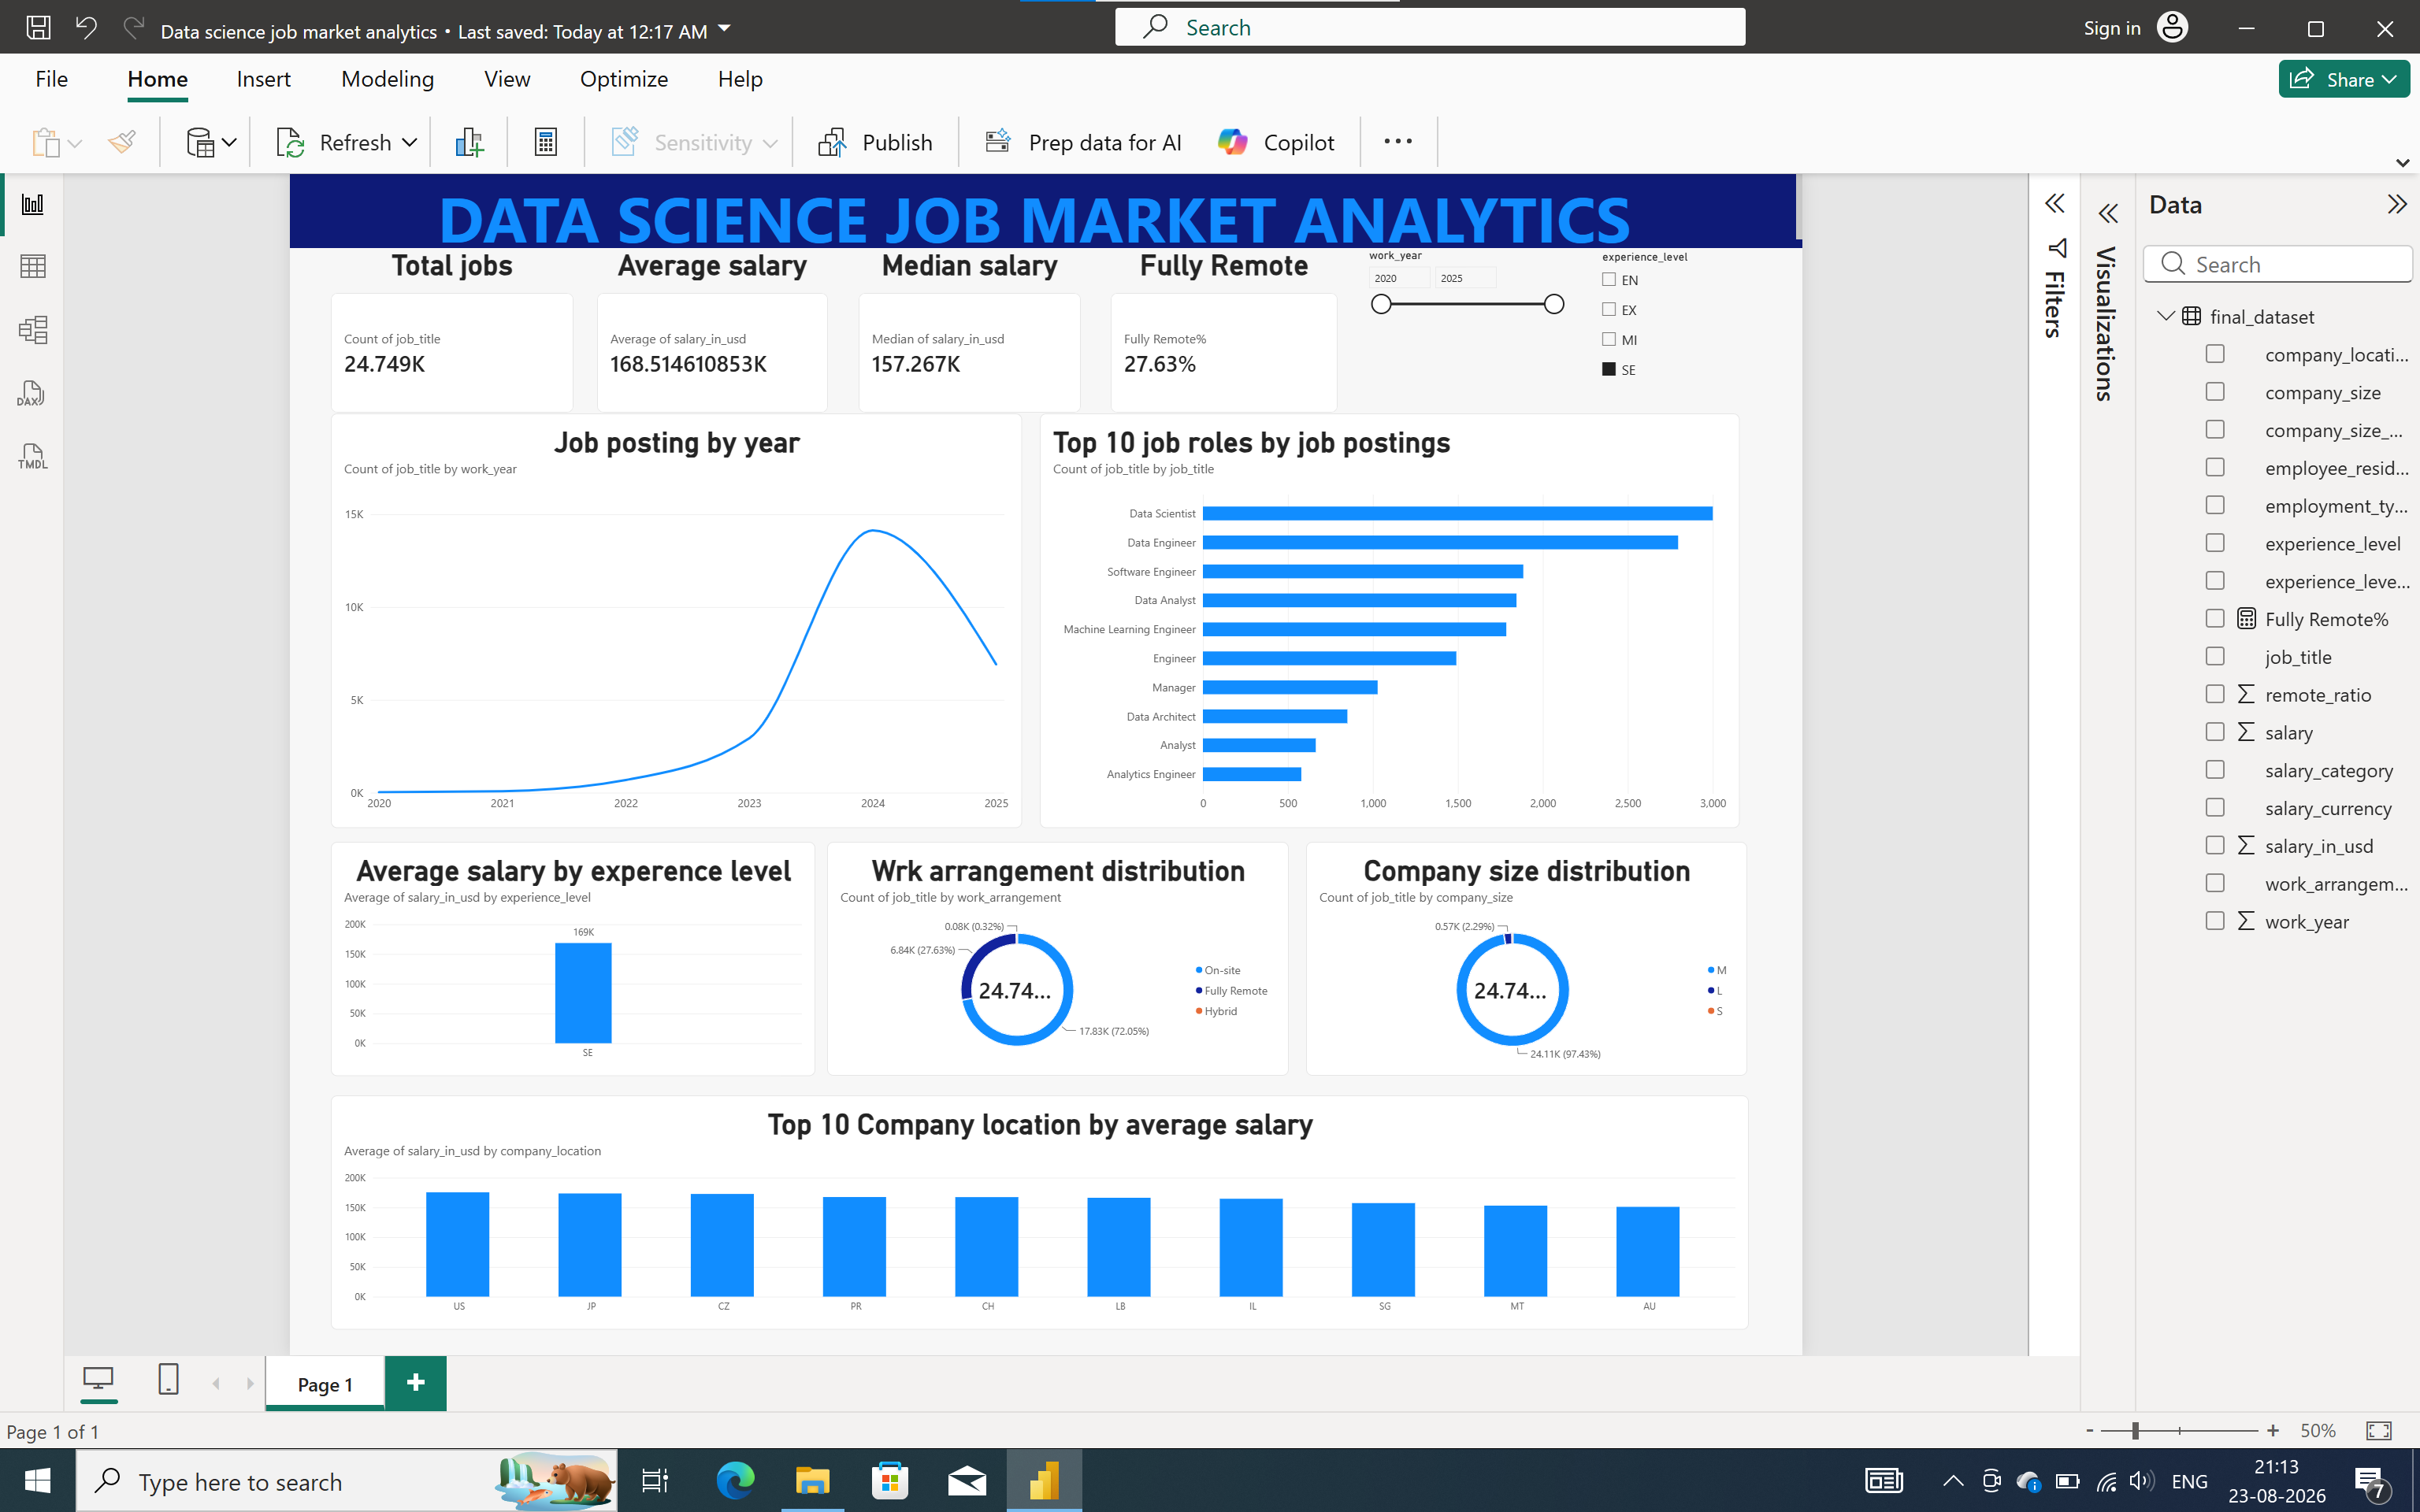

Layout of this report page (visuals, bound fields, positions):
{"tool":"powerbi","page":{"name":"Page 1","canvas":[1920,1500],"ordinal":0},"visuals":[{"type":"cardVisual","title":"Average salary","fields":{"Data":["Avg(final_dataset.salary_in_usd)"]},"box":[389.6,94.2,293.2,209.8],"z":1},{"type":"cardVisual","title":"Median salary","fields":{"Data":["Median(final_dataset.salary_in_usd)"]},"box":[721.3,94.2,282.5,209.8],"z":3},{"type":"cardVisual","title":"Fully Remote","fields":{"Data":["final_dataset.Fully Remote%"]},"box":[1042.4,94.2,289,209.8],"z":4},{"type":"lineChart","title":"Job posting by year ","fields":{"Category":["final_dataset.work_year"],"Y":["CountNonNull(final_dataset.job_title)"]},"box":[51.4,303.9,877.6,526.6],"z":5},{"type":"clusteredBarChart","title":"Top 10 job roles by job postings","fields":{"Category":["final_dataset.job_title"],"Y":["CountNonNull(final_dataset.job_title)"]},"box":[952.5,303.9,888.3,526.6],"z":6},{"type":"clusteredColumnChart","title":"Average salary by experence level ","fields":{"Category":["final_dataset.experience_level"],"Y":["Avg(final_dataset.salary_in_usd)"]},"box":[51.4,847.6,615.2,297.7],"z":7},{"type":"donutChart","title":"Wrk arrangement distribution","fields":{"Category":["final_dataset.work_arrangement"],"Y":["CountNonNull(final_dataset.job_title)"]},"box":[682.8,847.6,586,297],"z":8},{"type":"cardVisual","title":"Total jobs","fields":{"Data":["CountNonNull(final_dataset.job_title)"]},"box":[51.4,94.2,308.2,209.8],"z":9},{"type":"donutChart","title":"Company size distribution ","fields":{"Category":["final_dataset.company_size"],"Y":["CountNonNull(final_dataset.job_title)"]},"box":[1290.7,847.6,560,297],"z":10},{"type":"clusteredColumnChart","title":"Top 10 Company location by average  salary","fields":{"Category":["final_dataset.company_location"],"Y":["Avg(final_dataset.salary_in_usd)"]},"box":[51.4,1170.8,1800.1,297.5],"z":11},{"type":"textbox","box":[0,0,1920,94.2],"z":12},{"type":"slicer","fields":{"Values":["final_dataset.work_year"]},"box":[1362,94,259,209.8],"z":13},{"type":"slicer","fields":{"Values":["final_dataset.experience_level"]},"box":[1658,96,262,210],"z":14}]}

Visuals, with their boxes on the page's 1920x1500 design canvas (x1, y1, x2, y2). These are canvas units, not pixel positions in the 2420x1512 screenshot, which may show the page scaled, cropped or inside an application window:
"Average salary" cardVisual: 390,94,683,304
"Median salary" cardVisual: 721,94,1004,304
"Fully Remote" cardVisual: 1042,94,1331,304
"Job posting by year " lineChart: 51,304,929,830
"Top 10 job roles by job postings" clusteredBarChart: 952,304,1841,830
"Average salary by experence level " clusteredColumnChart: 51,848,667,1145
"Wrk arrangement distribution" donutChart: 683,848,1269,1145
"Total jobs" cardVisual: 51,94,360,304
"Company size distribution " donutChart: 1291,848,1851,1145
"Top 10 Company location by average  salary" clusteredColumnChart: 51,1171,1852,1468
textbox: 0,0,1920,94
slicer - final_dataset.work_year: 1362,94,1621,304
slicer - final_dataset.experience_level: 1658,96,1920,306
